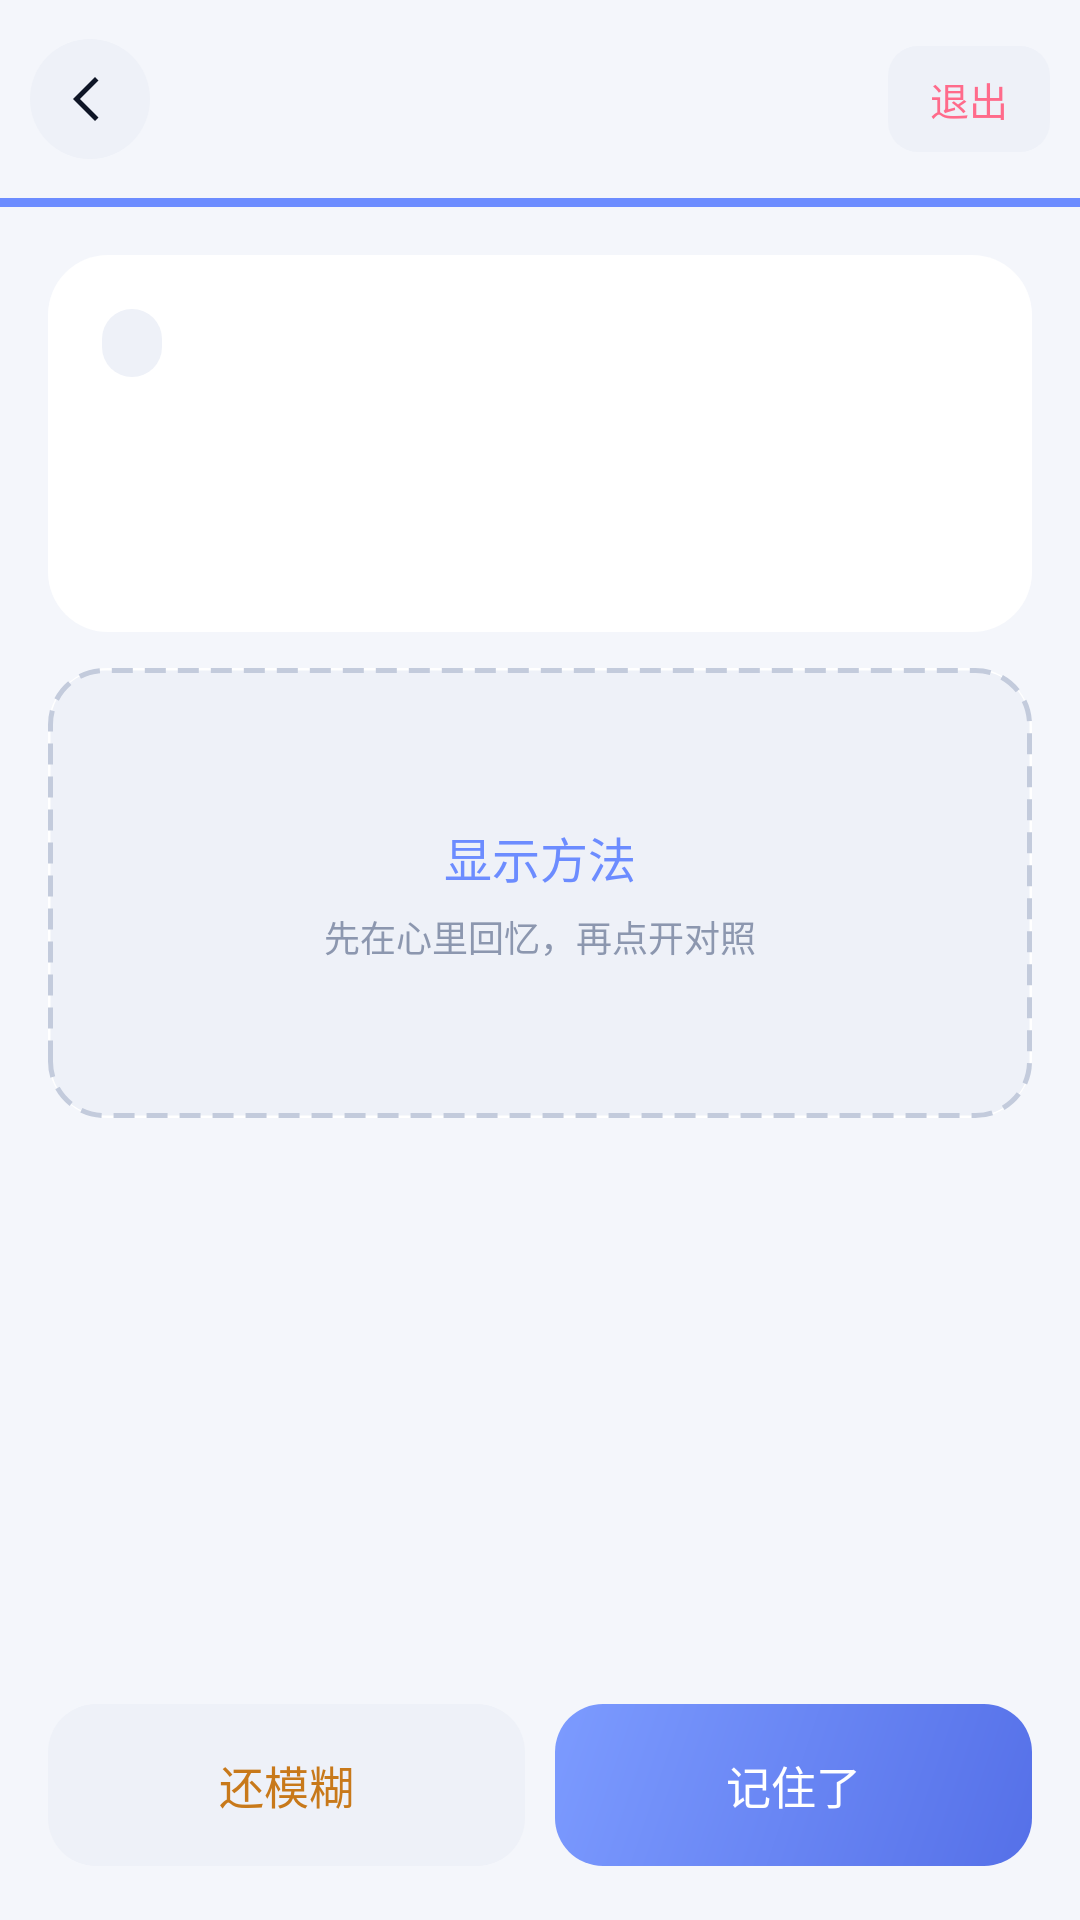

Screen size 1080x1920. Icon name, then its box in pixels as (x1, y1, x2, y2):
返回: (73, 77, 99, 121)
